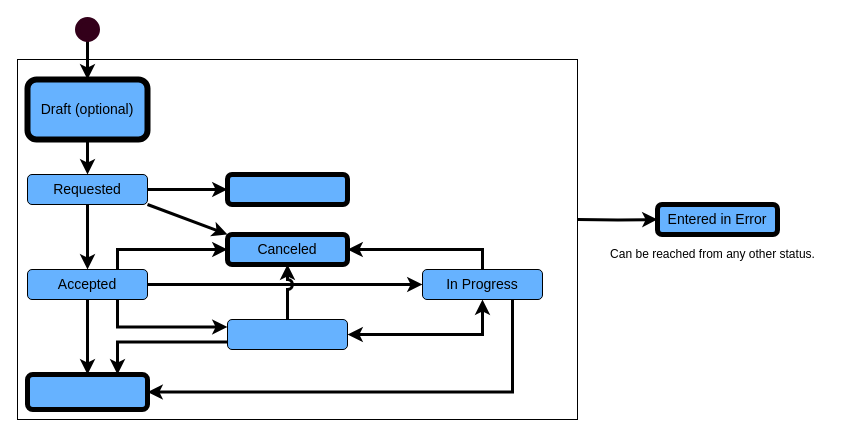
Some shapes in this 845 by 437 pixel diagram are drawn without their labels. Here are the shapes that lost their labels. From the top down, the centre of each, then its label:
At pixel 287 189: "Rejected".
At pixel 287 334: "On-Hold".
At pixel 87 392: "Completed or Failed".
